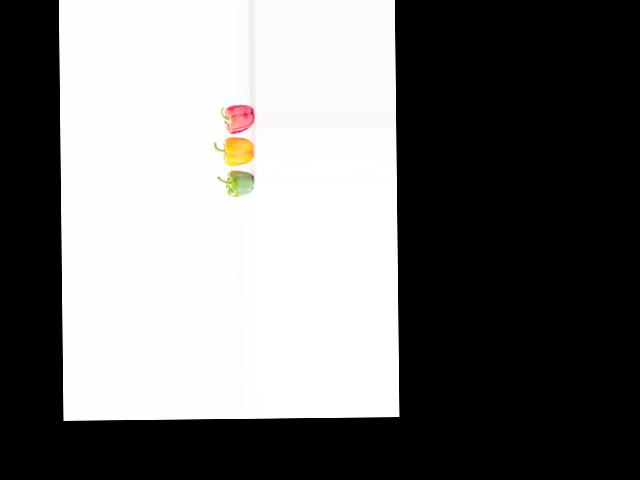bell_pepper: (213, 102, 254, 135)
